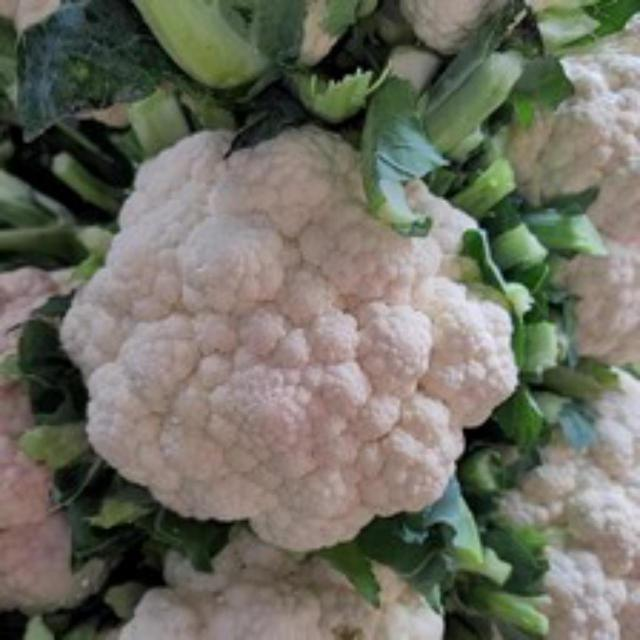cauliflower: (50, 118, 539, 556)
